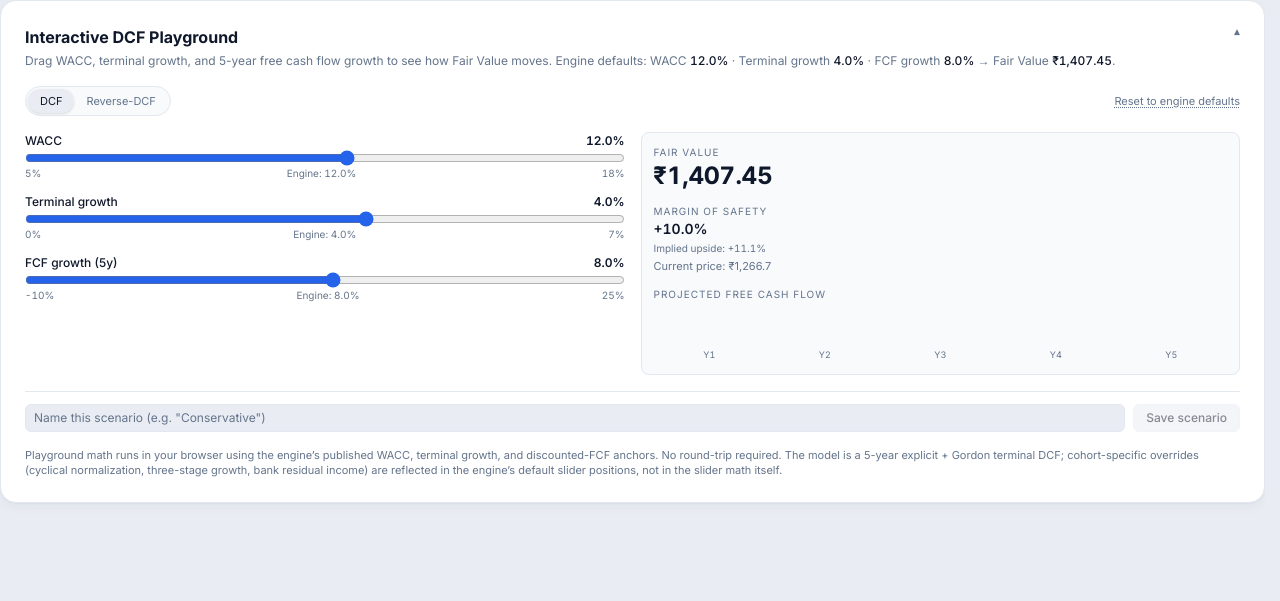
Test case: InteractiveDcfPlayground — Reverse-DCF mode › shows historical context block when CAGRs are provided
The width and height of the screenshot is (1280, 601).
Click the tab with test id "playground-mode-reverse".
click(121, 101)  # box [74,88,168,113]
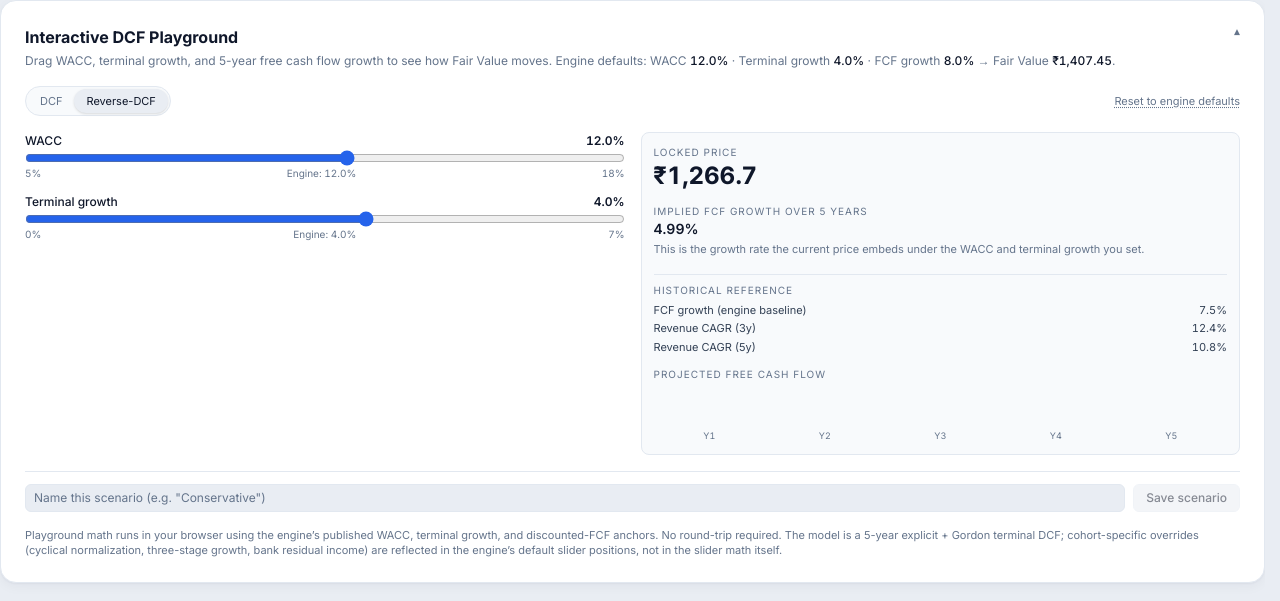
Expected: the element with test id "playground-historical-context" is shown, [654,274,1227,355]
